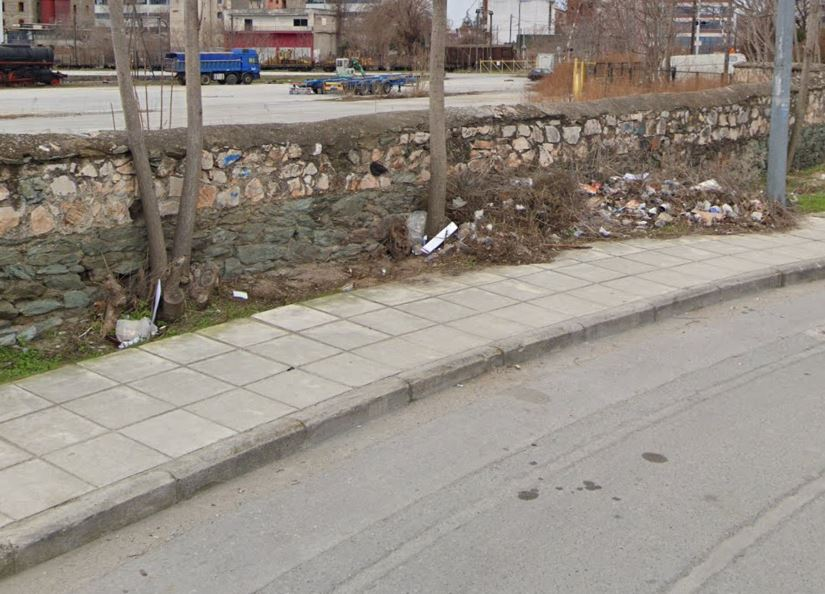trash: (518, 163, 793, 247), (89, 285, 175, 350), (408, 208, 462, 260)
